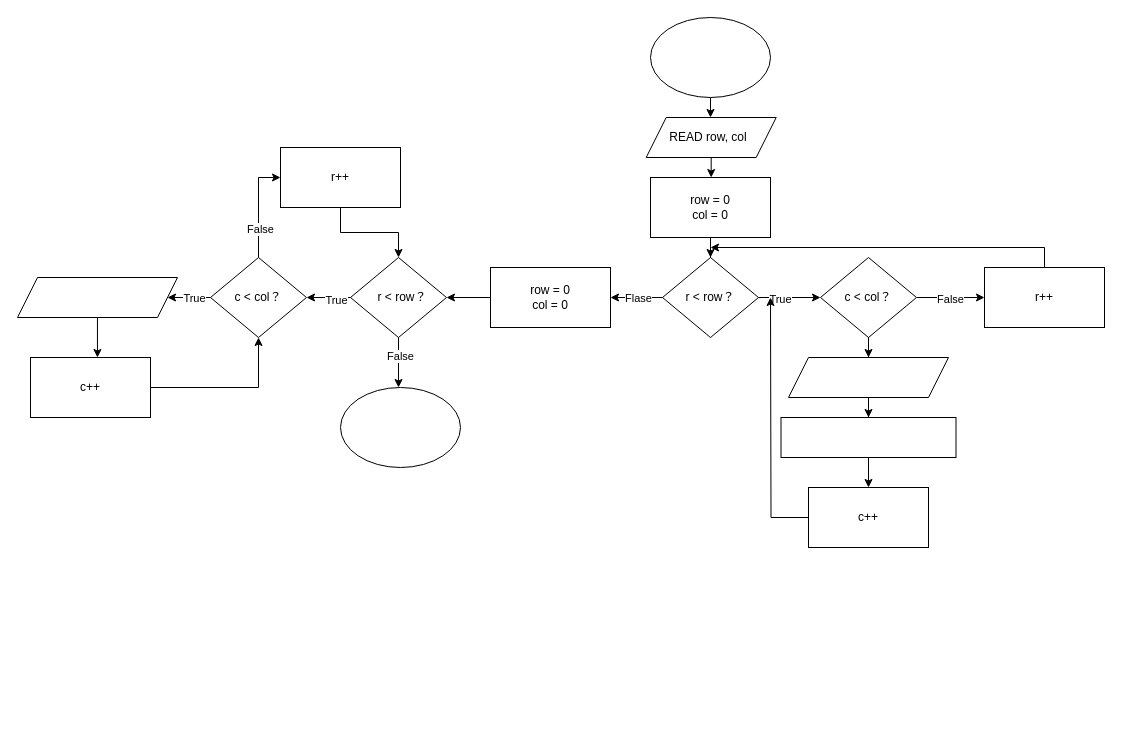
This 1138x735 diagram has some shape labels left out. The shapes that lost their labels are listed below. From the top down, each one's centre as x and y in pixels, then its label:
At point (710, 57): "BEGIN".
At point (97, 297): "PRINT num[r][c]".
At point (868, 377): "READ num".
At point (400, 427): "END".
At point (868, 437): "APPEND num TO val[r][c]".
